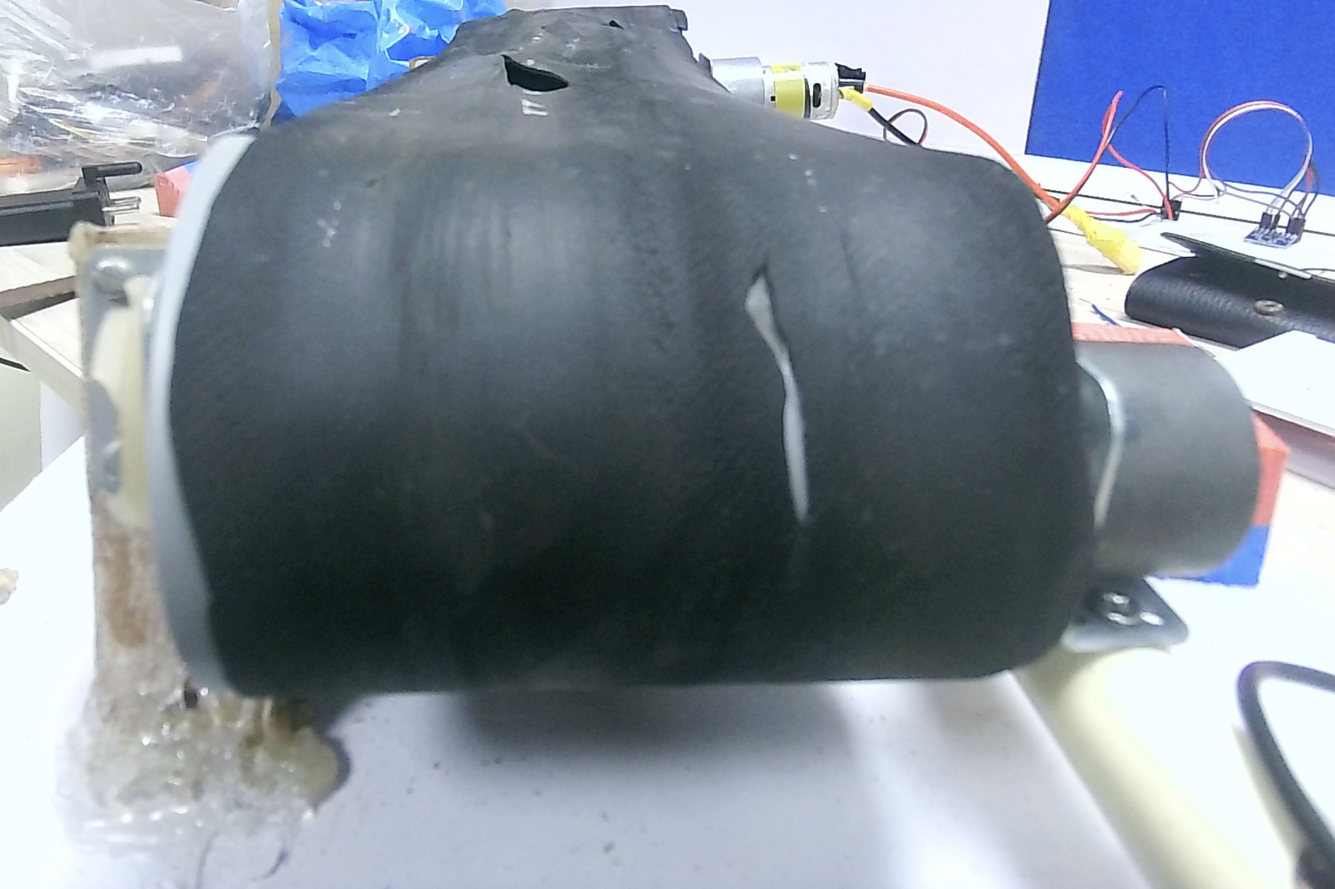tear: (741, 251, 827, 524)
